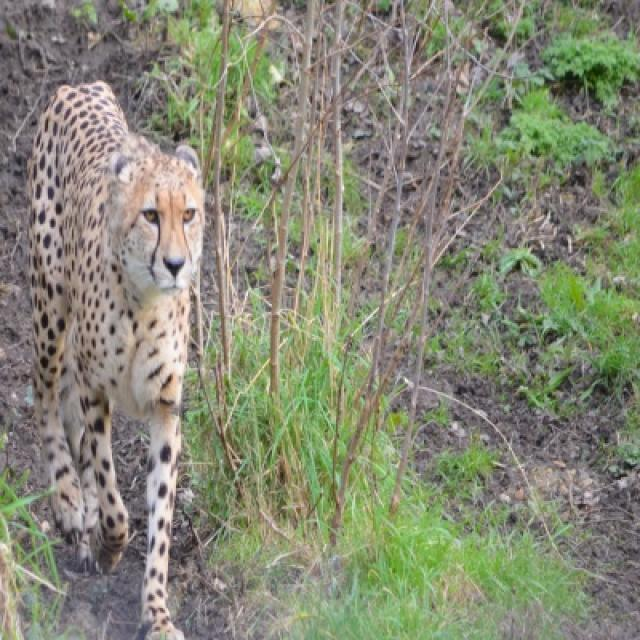Cheetah: (24, 82, 206, 638)
